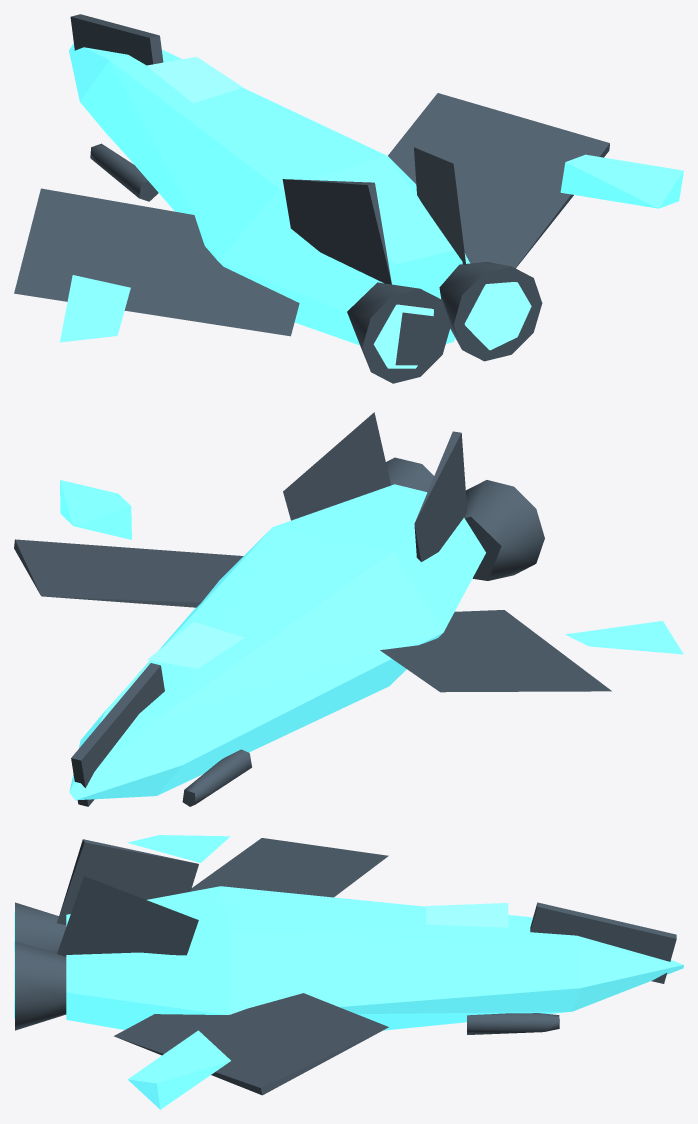
File: fighter_shard_lod1.glb
3 renders of one model, top to bottom at view 1: azimuth 30°, elevation 25°; view 2: azimuth 150°, elevation 25°; view 3: azimuth 270°, elevation 25°, orthographic. The views are drawn at different scales.
Visible parts, largest first — view 1: Merged_ShardDark, Merged_ShardBody, Merged_ShardEngine; view 2: Merged_ShardBody, Merged_ShardDark, Merged_ShardEngine; view 3: Merged_ShardBody, Merged_ShardDark, Merged_ShardEngine.
Part boxes in pixels (x1=…): Merged_ShardDark: x1=14, y1=14, x2=609, y2=383; Merged_ShardBody: x1=60, y1=43, x2=683, y2=345; Merged_ShardEngine: x1=146, y1=57, x2=531, y2=368; Merged_ShardBody: x1=60, y1=480, x2=683, y2=800; Merged_ShardDark: x1=14, y1=412, x2=611, y2=806; Merged_ShardEngine: x1=147, y1=622, x2=244, y2=668; Merged_ShardBody: x1=66, y1=835, x2=683, y2=1109; Merged_ShardDark: x1=15, y1=838, x2=676, y2=1095; Merged_ShardEngine: x1=14, y1=903, x2=508, y2=1018.
Size of the model in its own units: 6.15 by 1.77 by 6.52.
